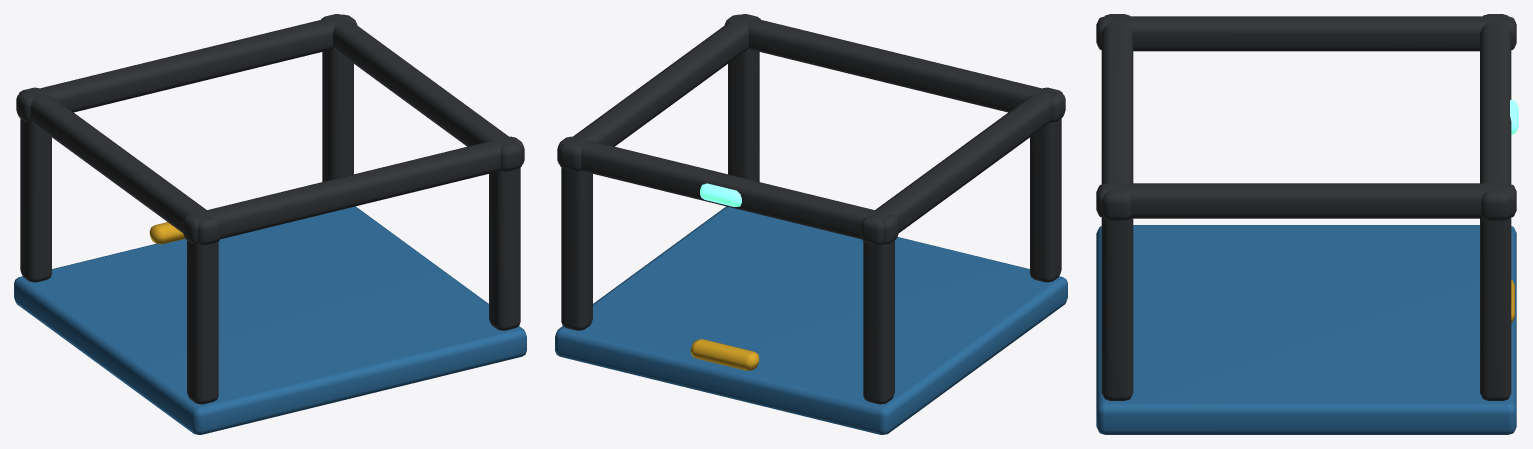
The model's file is e-casing.glb.
The picture shows the model from 3 angles, left to right: view 1: azimuth 30°, elevation 25°; view 2: azimuth 150°, elevation 25°; view 3: azimuth 270°, elevation 25°; orthographic projection. The views are drawn at different scales.
Visible parts, largest first — view 1: e-casing; view 2: e-casing; view 3: e-casing.
Boxes of the visible parts, bbox=[...] form: e-casing: bbox=[14, 14, 526, 434]; e-casing: bbox=[555, 14, 1067, 434]; e-casing: bbox=[1096, 14, 1518, 434].
Size of the model in its own units: 1.25 by 0.765 by 1.2.
